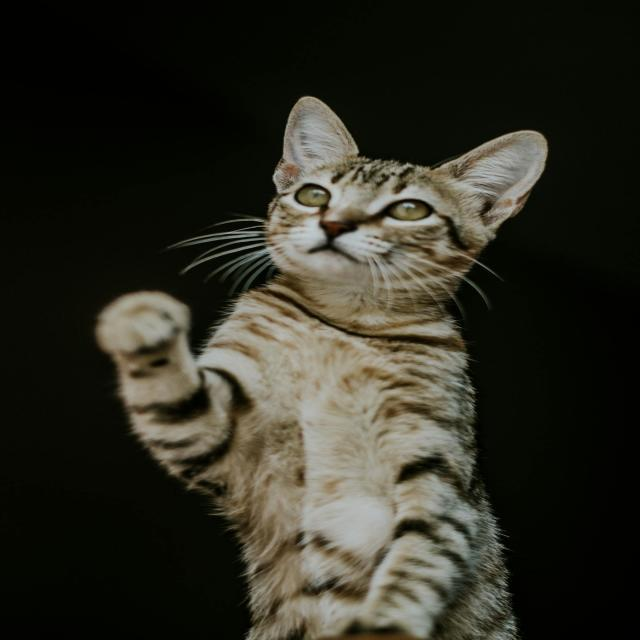Cat: (94, 95, 549, 639)
